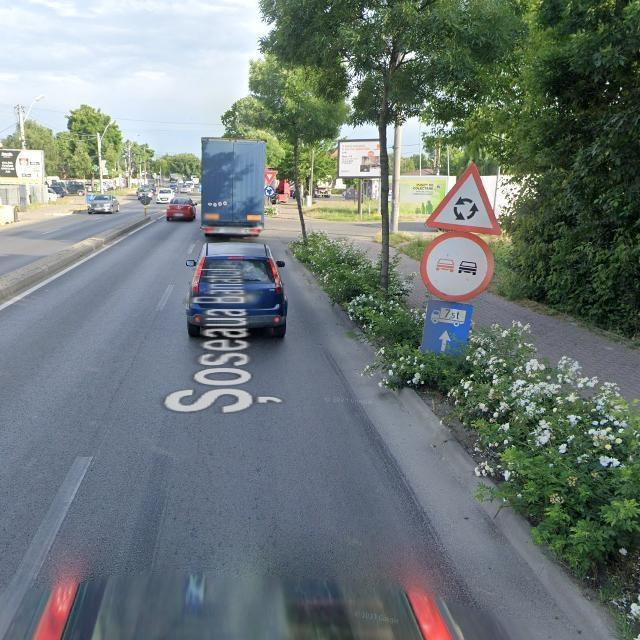forb_overtake: (420, 233, 495, 303)
prio_give_way: (264, 171, 277, 187)
